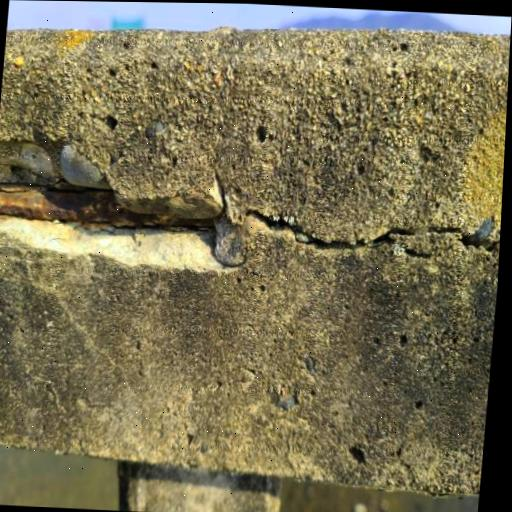exposed_rebar: (0, 181, 214, 228)
spalling: (0, 129, 222, 270)
